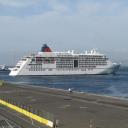cruises: (8, 44, 123, 78)
